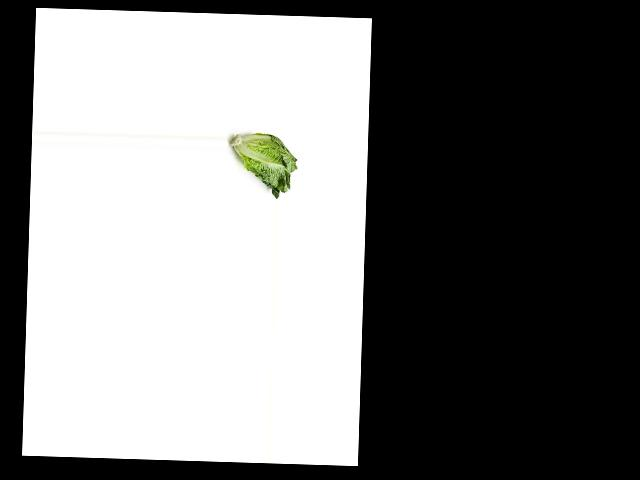lettuce: (230, 130, 301, 198)
